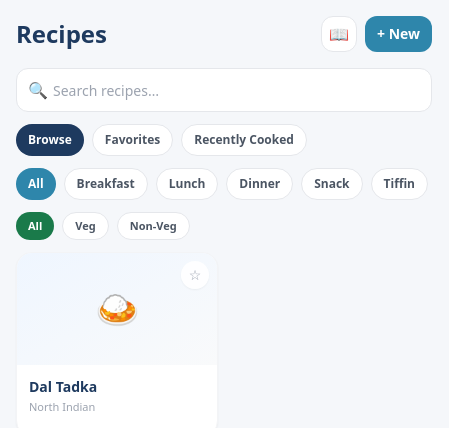
Test: RecipeLibrary › shows an empty state for Recently Cooked with no history
The width and height of the screenshot is (449, 428).
What coordinates should you click on to do the following:
click the button "Recently Cooked"
I would click on:
 (244, 140)
Its box is [181,124,307,156].
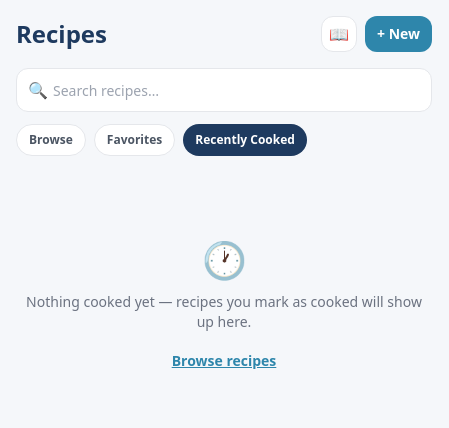
Result: the text "Nothing cooked yet" is shown at [26,292,422,331]
